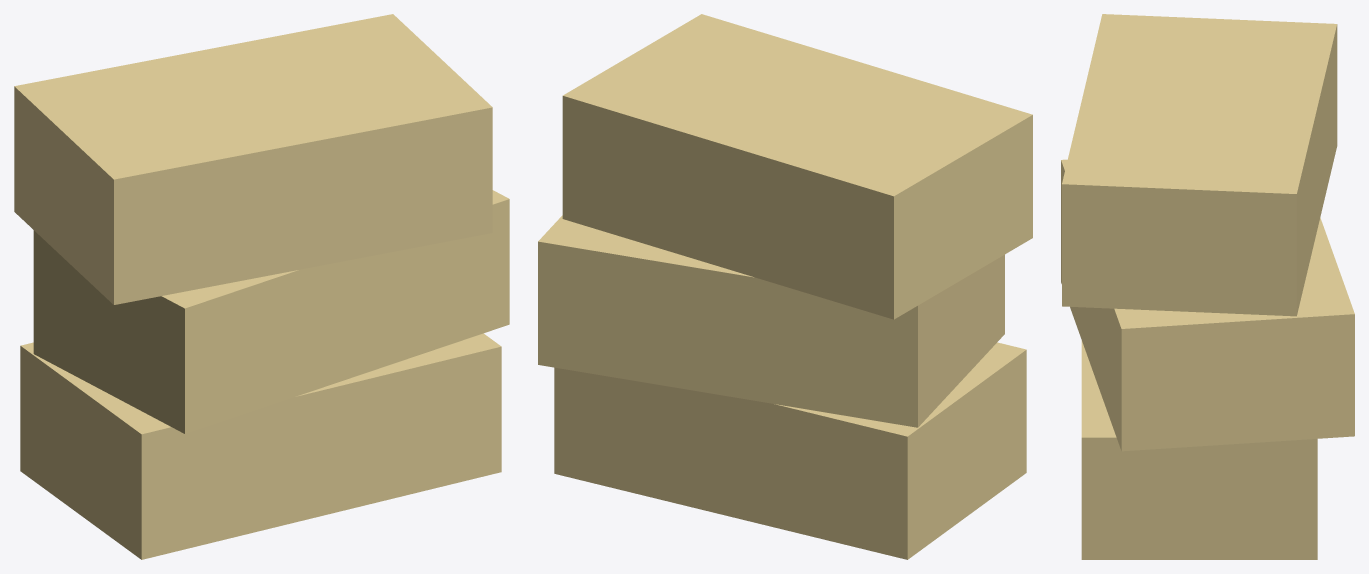
The model's file is prop-wax-block-stack.fbx.
The picture shows the model from 3 angles, left to right: view 1: azimuth 30°, elevation 25°; view 2: azimuth 150°, elevation 25°; view 3: azimuth 270°, elevation 25°; orthographic projection. The views are drawn at different scales.
Visible parts, largest first — view 1: prop-wax-block-stack; view 2: prop-wax-block-stack; view 3: prop-wax-block-stack.
Part boxes in pixels (<box>): prop-wax-block-stack: <box>14,14,509,559</box>; prop-wax-block-stack: <box>538,14,1032,559</box>; prop-wax-block-stack: <box>1061,14,1354,559</box>.
Size of the model in its own units: 27.05 by 24 by 17.43.
